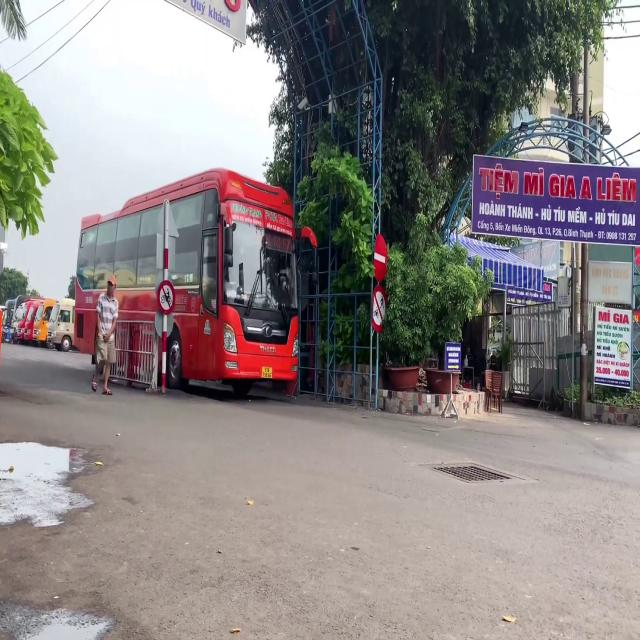bien_vang: (261, 366, 273, 379)
